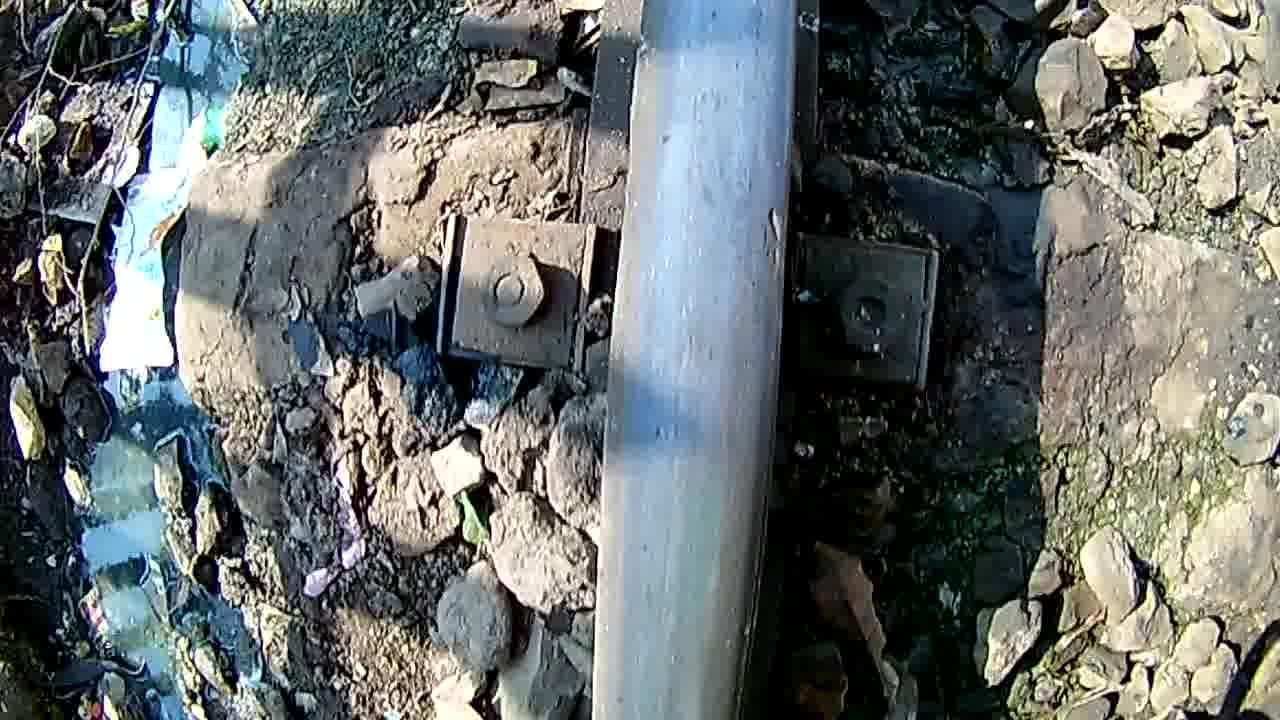crack: (592, 0, 802, 720)
